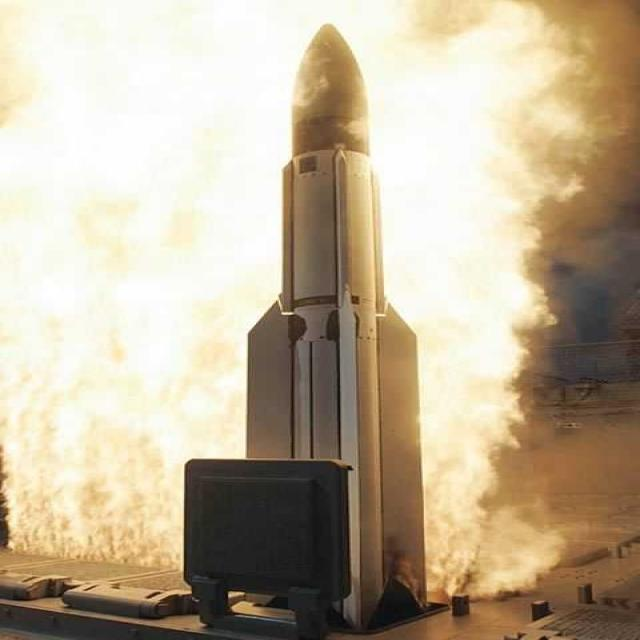missile: (240, 21, 442, 629)
